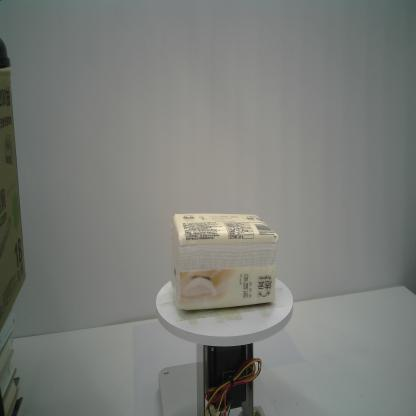Tissue: (171, 212, 278, 311)
